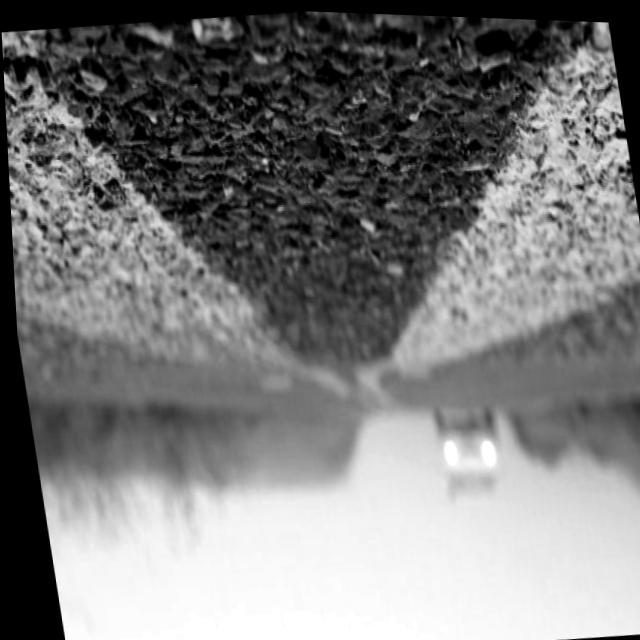cleat: (1, 9, 640, 521)
